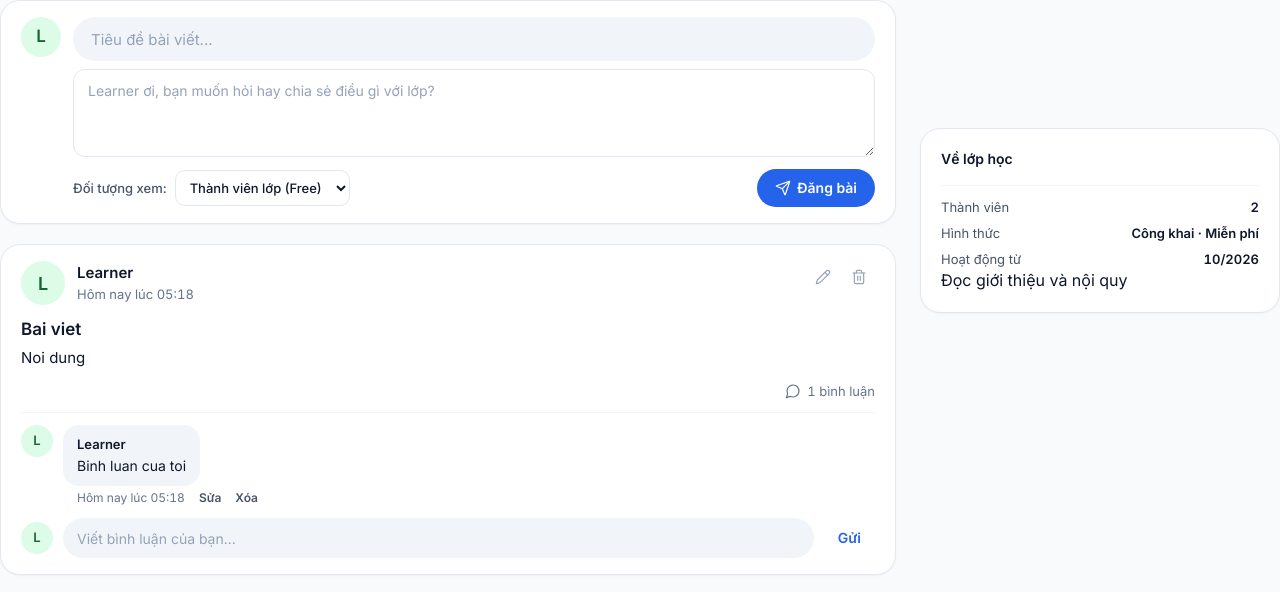
Scenario: FeedTab › asks for confirmation before deleting a comment and removes it on confirm
Expected: the text "Binh luan cua toi" is shown, [77,455,186,476]
Click the button with aria-label "Xóa bình luận" at (247, 498), box [235,490,258,506]
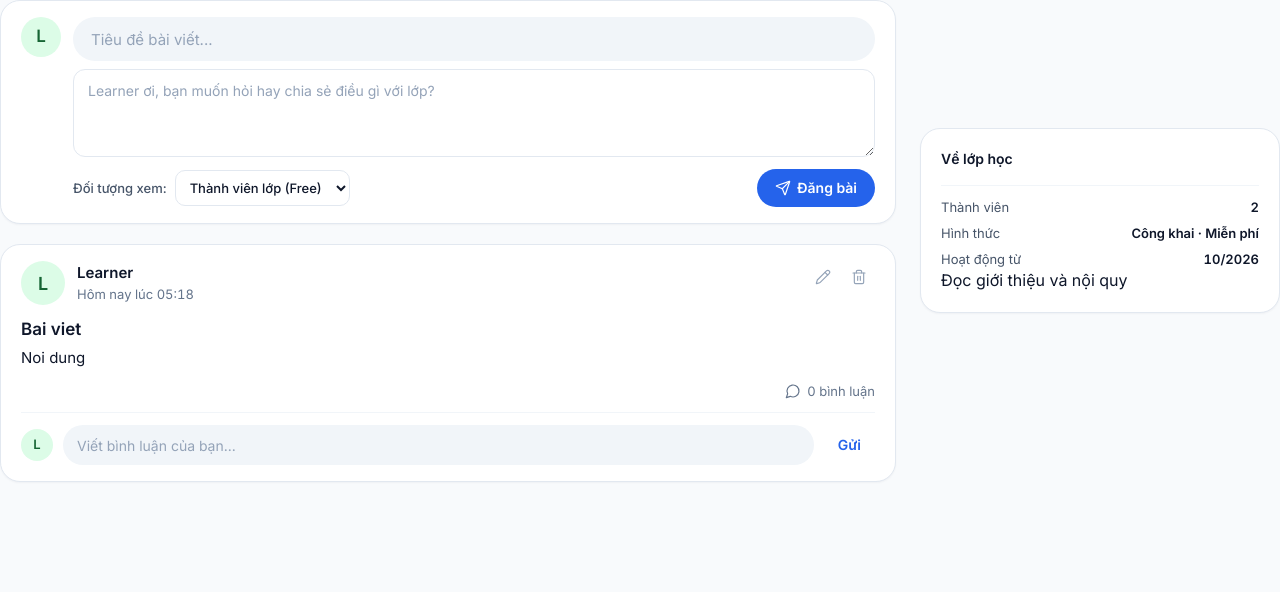
Expected: the text "Binh luan cua toi" is gone
